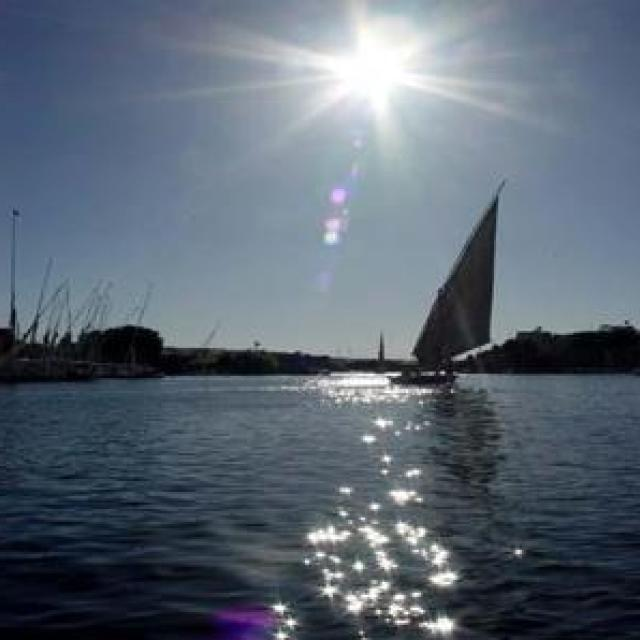sailboat: (388, 174, 512, 389)
